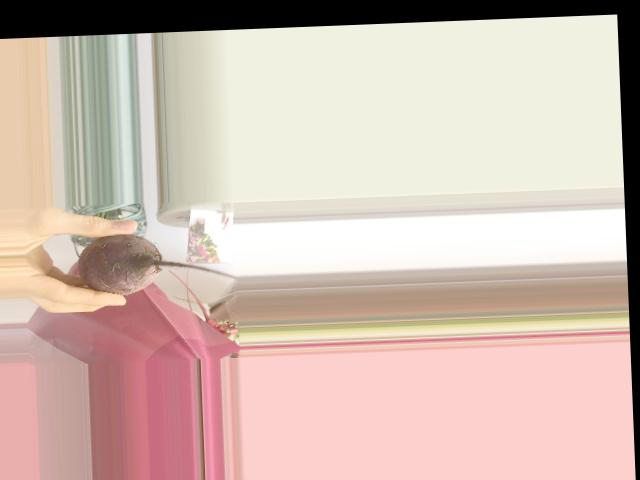beet: (75, 229, 239, 296)
